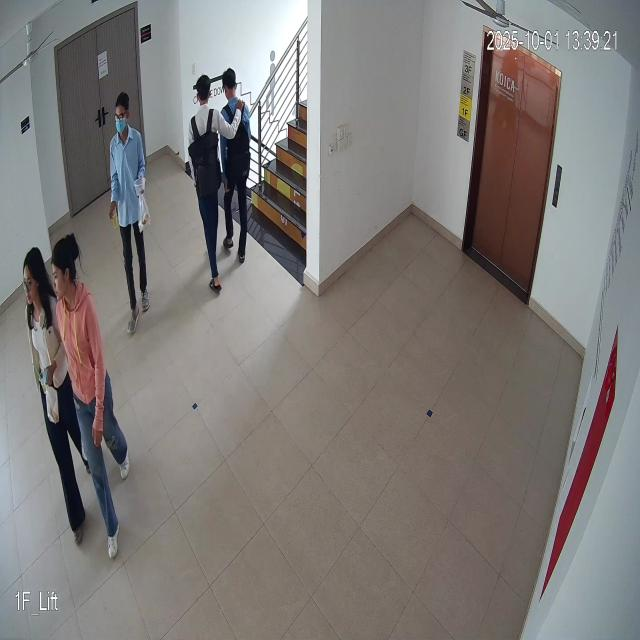face: (49, 231, 80, 310), (19, 241, 49, 310)
